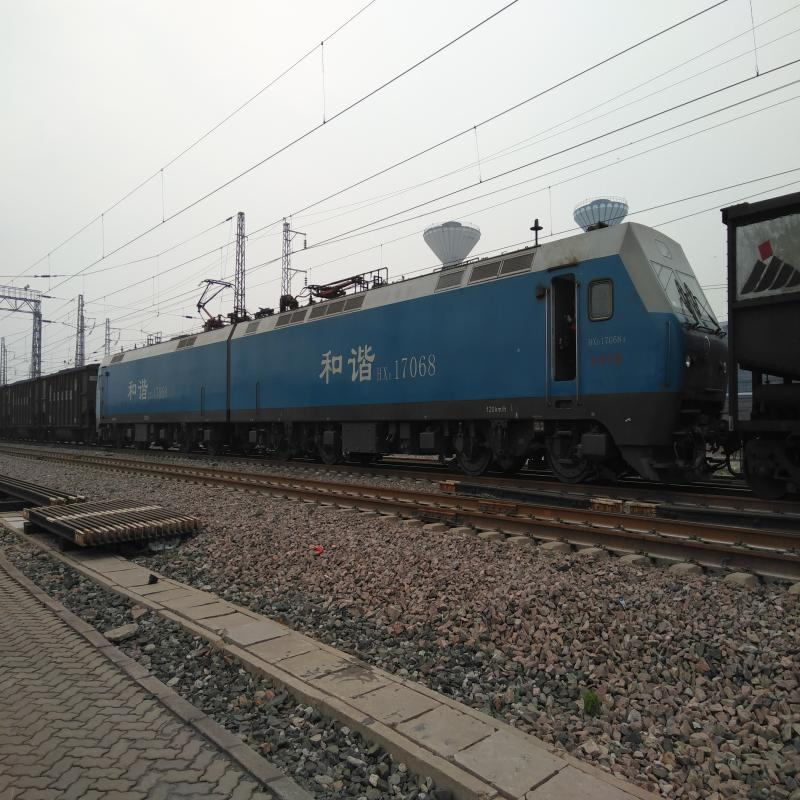train: (234, 249, 729, 465)
